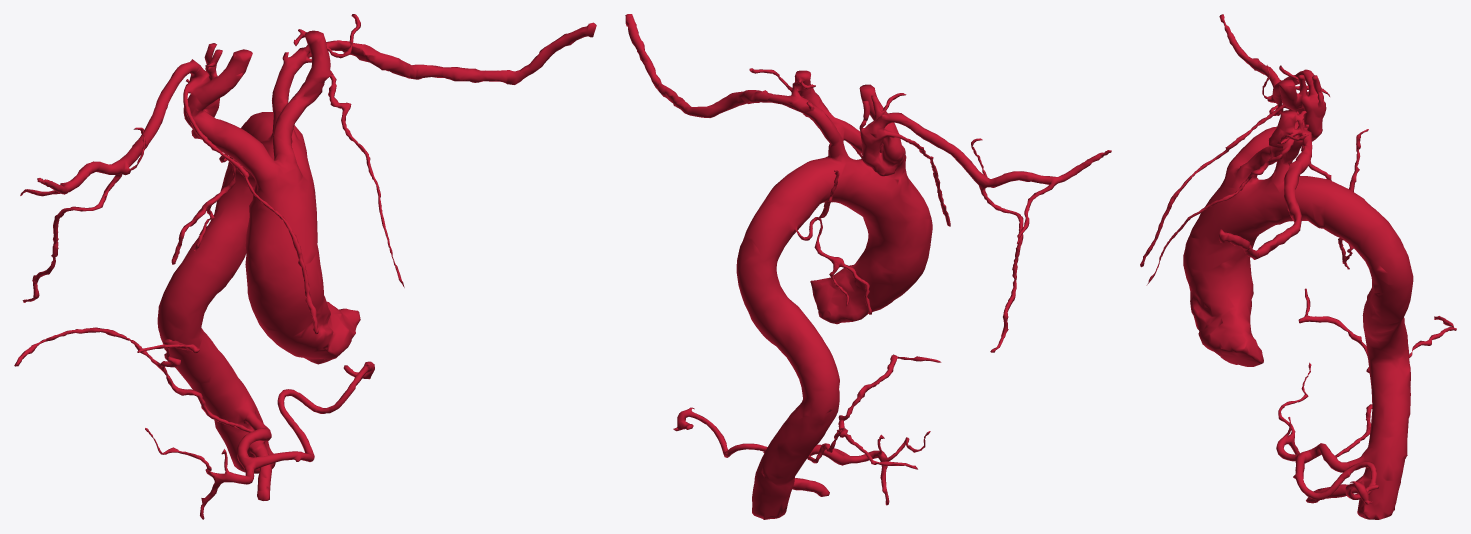
3 renders of one model, left to right at view 1: azimuth 30°, elevation 25°; view 2: azimuth 150°, elevation 25°; view 3: azimuth 270°, elevation 25°, orthographic. The views are drawn at different scales.
Visible parts, largest first — view 1: Polygonal_Model_12_Triangles_0; view 2: Polygonal_Model_12_Triangles_0; view 3: Polygonal_Model_12_Triangles_0.
Part boxes in pixels (box(x1,y1,x2,y2)): Polygonal_Model_12_Triangles_0: box(14, 14, 596, 519); Polygonal_Model_12_Triangles_0: box(625, 14, 1111, 519); Polygonal_Model_12_Triangles_0: box(1140, 14, 1456, 519).
Size of the model in its own units: 12.85 by 10.25 by 7.27.
